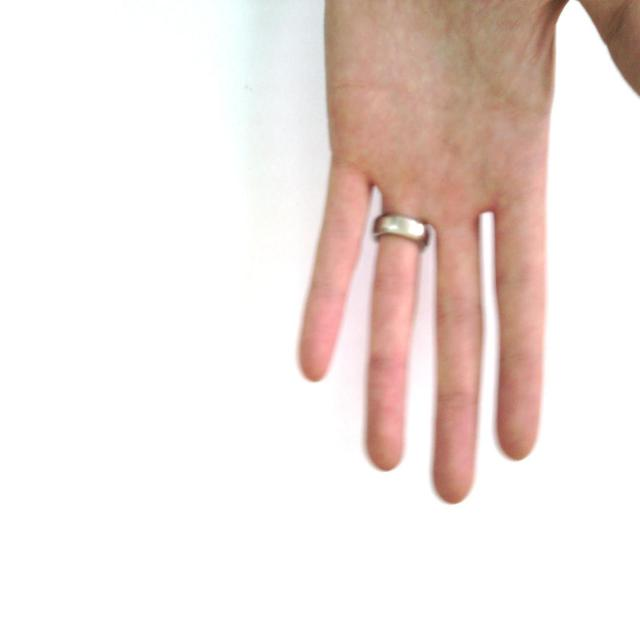others: (285, 0, 640, 513)
